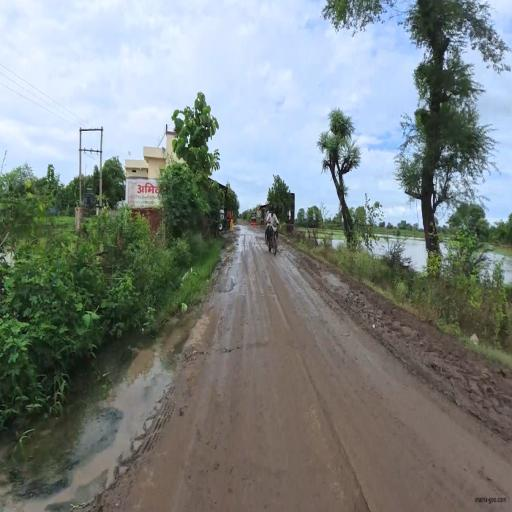longitudinal_crack: (209, 309, 269, 386)
